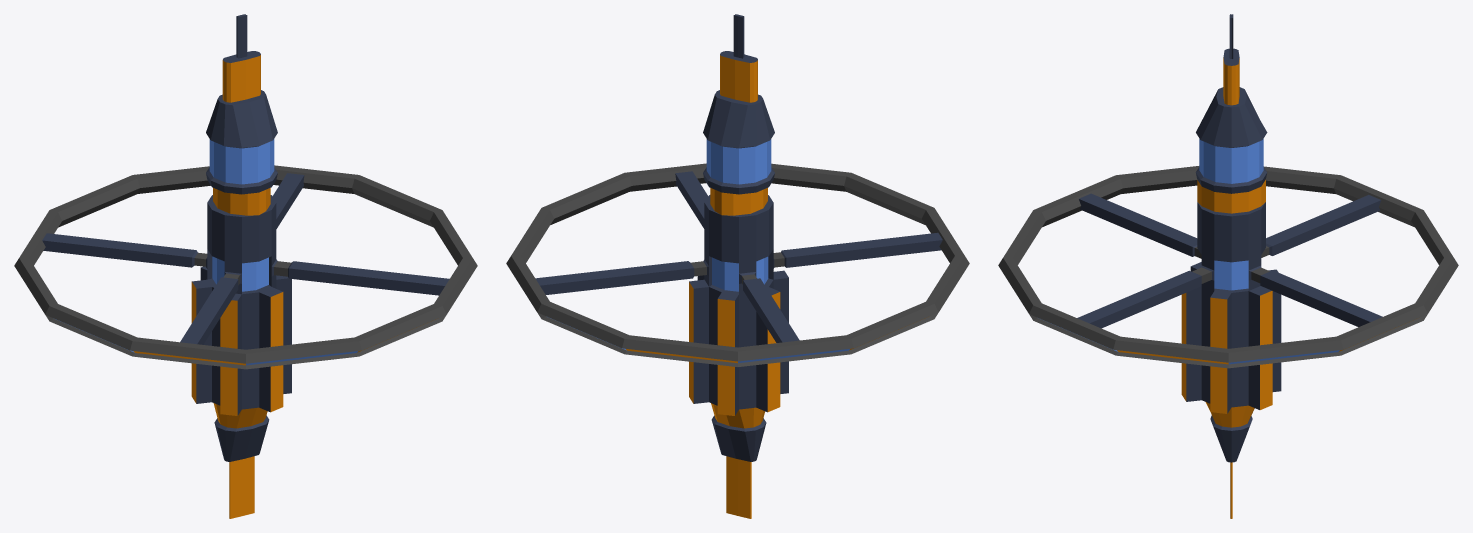
The model's file is ChargeStation.fbx.
3 views of the same model, side by side, from view 1: azimuth 30°, elevation 25°; view 2: azimuth 150°, elevation 25°; view 3: azimuth 270°, elevation 25° (orthographic).
Parts seen in each view (by area): view 1: ChargeStation; view 2: ChargeStation; view 3: ChargeStation.
Boxes of the visible parts, x1,y1,x2,y2 form: ChargeStation: [14, 14, 477, 518]; ChargeStation: [506, 14, 969, 518]; ChargeStation: [998, 14, 1458, 518].
Bounding box in the file's own units: 37.14 × 44.18 × 37.14.
